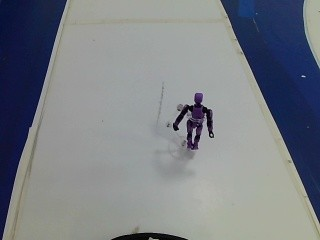pedestrian: (172, 84, 215, 154)
